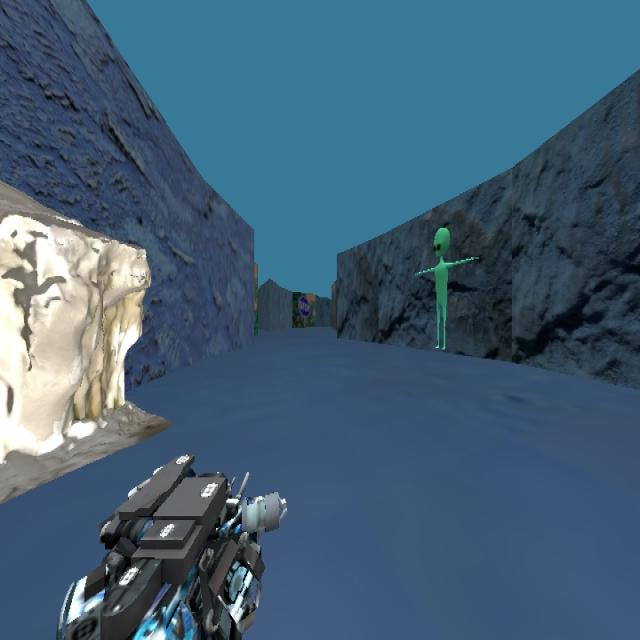Alien: (413, 225, 481, 351)
Ice: (0, 177, 202, 482)
Stop_Sign: (292, 289, 318, 328), (297, 295, 310, 317)
